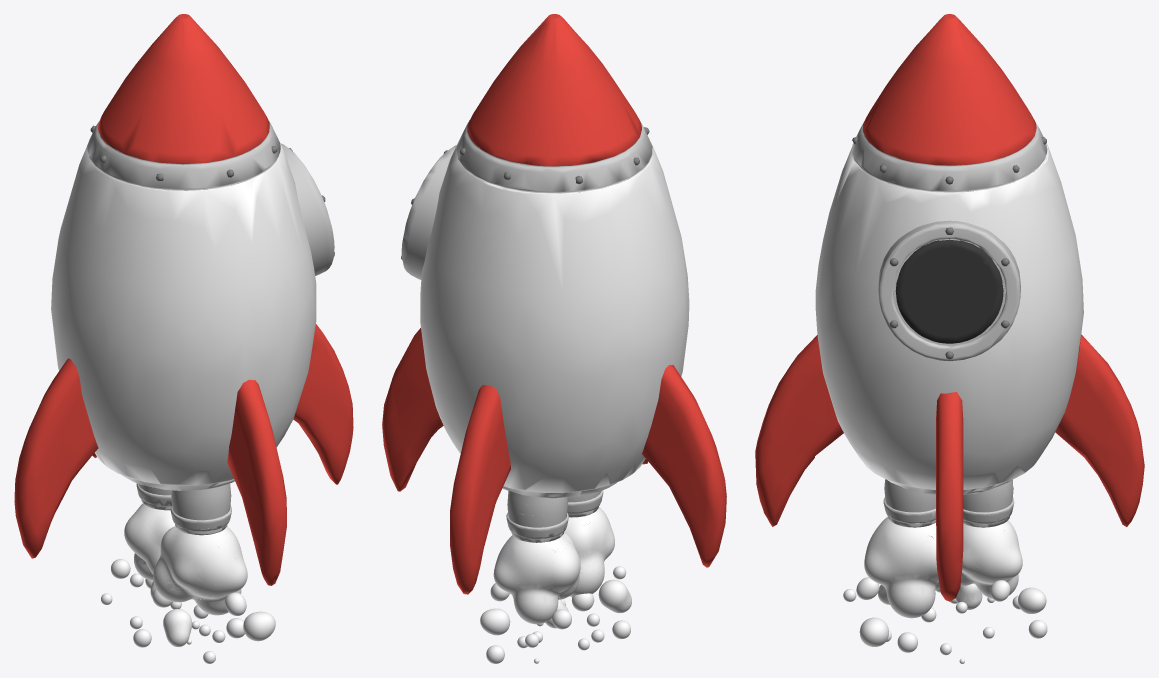
The model's file is rocket.glb.
The picture shows the model from 3 angles, left to right: view 1: azimuth 30°, elevation 25°; view 2: azimuth 150°, elevation 25°; view 3: azimuth 270°, elevation 25°; orthographic projection.
Visible parts, largest first — view 1: Cylinder, Cylinder.003, Cube.002, Cylinder.008, Cylinder.001, Cube.015, Cube.014, Cube.005; view 2: Cylinder, Cylinder.003, Cube.015, Cylinder.008, Cylinder.001, Cube.002, Cube.014, Cube.016; view 3: Cylinder, Cylinder.003, Cylinder.001, Cube.002, Cylinder.008, Cube.015, Cube.005, Cube.016.
Boxes of the visible parts, left/top/right/bottom form: Cylinder: left=51, top=14, right=316, bottom=490; Cylinder.003: left=14, top=324, right=353, bottom=585; Cube.002: left=153, top=526, right=247, bottom=615; Cylinder.008: left=136, top=483, right=231, bottom=535; Cylinder.001: left=231, top=143, right=334, bottom=275; Cube.015: left=124, top=503, right=175, bottom=580; Cube.014: left=163, top=609, right=192, bottom=647; Cube.005: left=243, top=611, right=275, bottom=641; Cylinder: left=420, top=14, right=689, bottom=498; Cylinder.003: left=382, top=328, right=726, bottom=594; Cube.015: left=493, top=532, right=580, bottom=624; Cylinder.008: left=506, top=490, right=603, bottom=542; Cylinder.001: left=401, top=145, right=470, bottom=279; Cube.002: left=553, top=507, right=614, bottom=596; Cube.014: left=598, top=579, right=631, bottom=613; Cube.016: left=480, top=608, right=510, bottom=635; Cylinder: left=815, top=14, right=1083, bottom=494; Cylinder.003: left=755, top=334, right=1144, bottom=601; Cylinder.001: left=878, top=220, right=1020, bottom=361; Cube.002: left=864, top=517, right=940, bottom=618; Cylinder.008: left=883, top=479, right=1014, bottom=527; Cube.015: left=960, top=520, right=1022, bottom=598; Cube.005: left=859, top=617, right=888, bottom=646; Cube.016: left=1018, top=587, right=1046, bottom=613.
Bounding box in the file's own units: 0.8424 × 1.53 × 0.8425.
